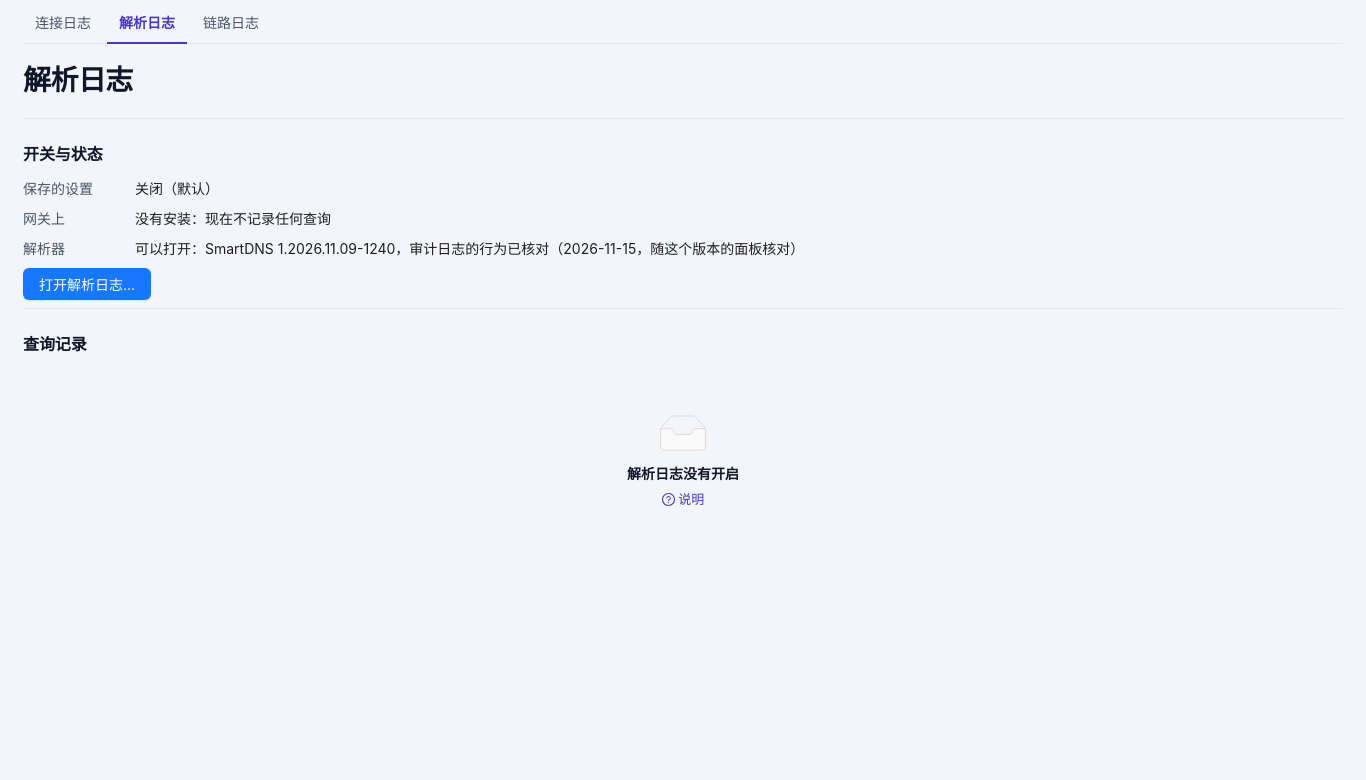
Test: DNS query log page › a save the server refuses (the gate changed in between) shows the reason and enables nothing
What coordinates should you click on to do the following:
click the button "打开解析日志…"
I would click on:
 (87, 284)
Its box is [23, 268, 151, 300].
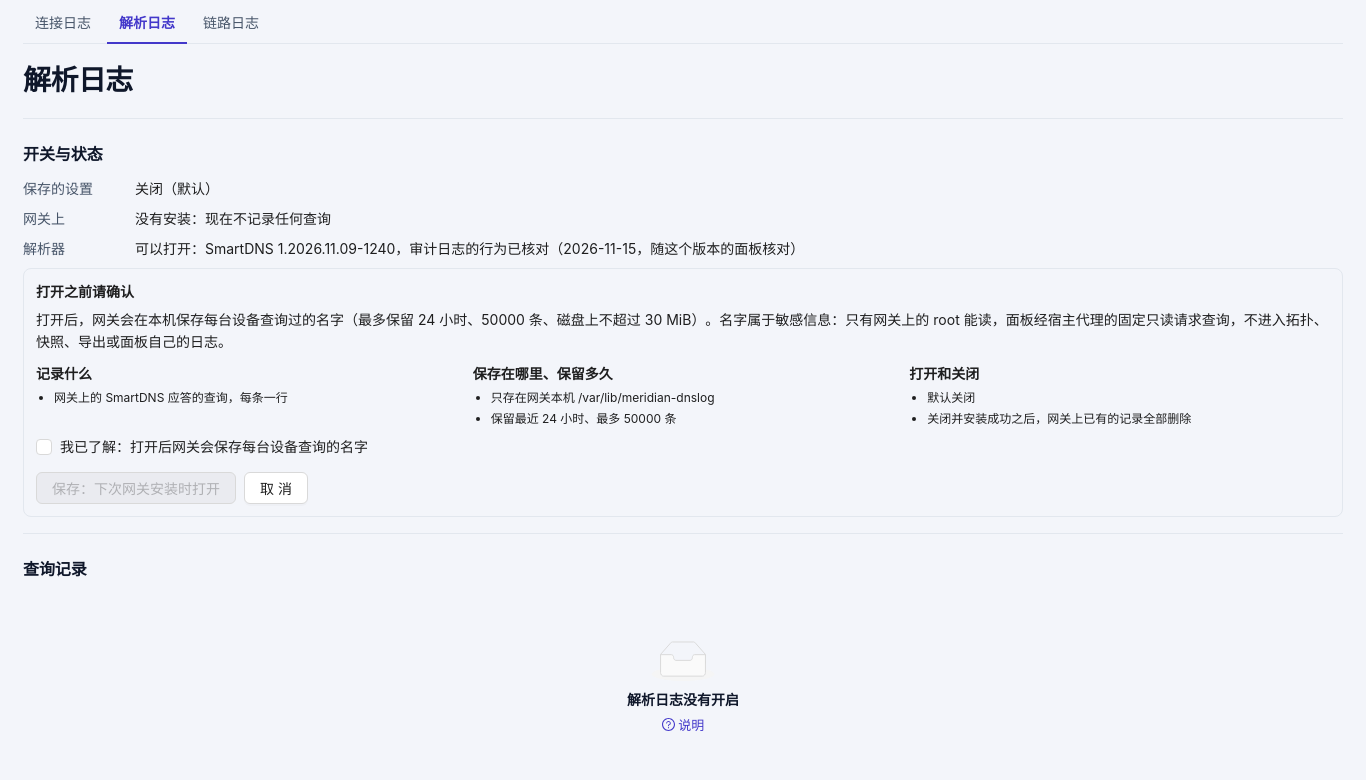
What coordinates should you click on to do the following:
click the checkbox
I would click on:
 (202, 447)
Its box is [36, 438, 368, 456].
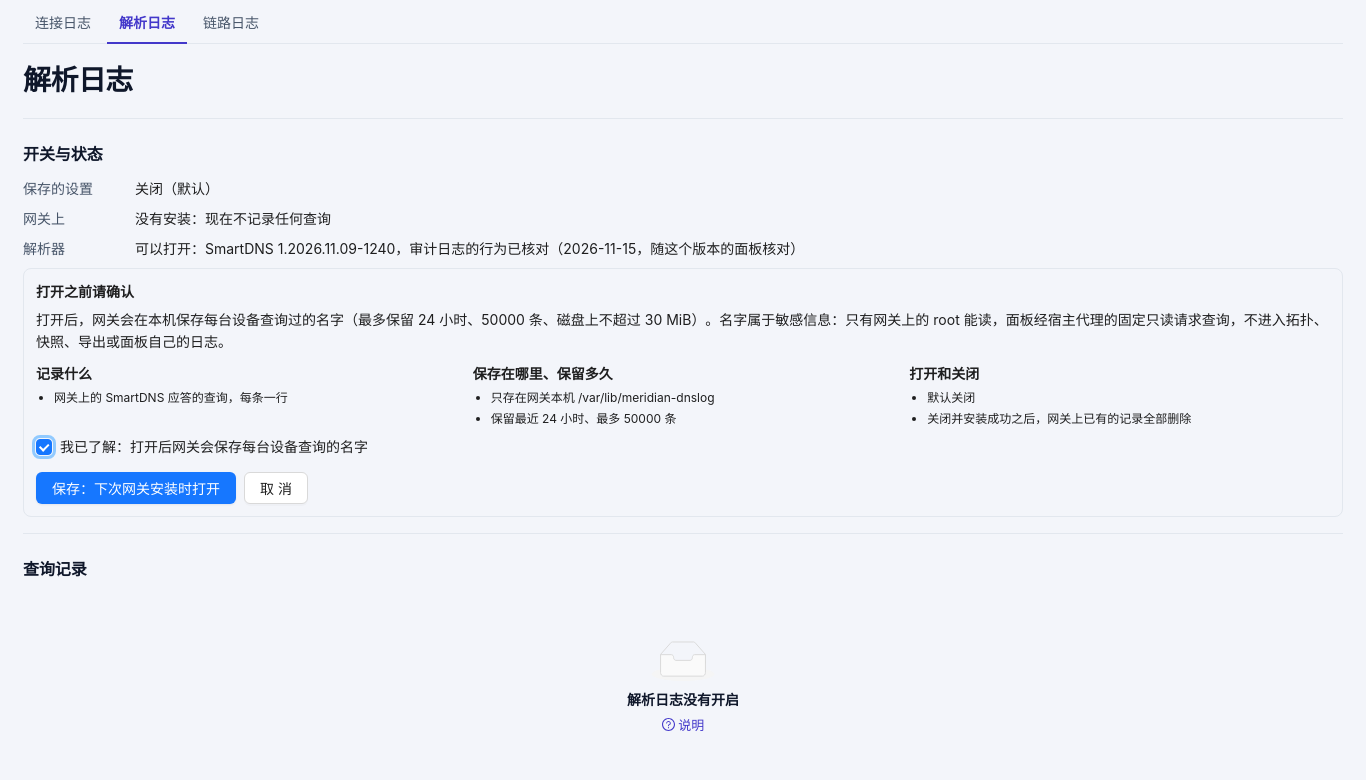
What coordinates should you click on to do the following:
click the button "保存：下次网关安装时打开"
I would click on:
 (136, 488)
Its box is [36, 472, 236, 504].
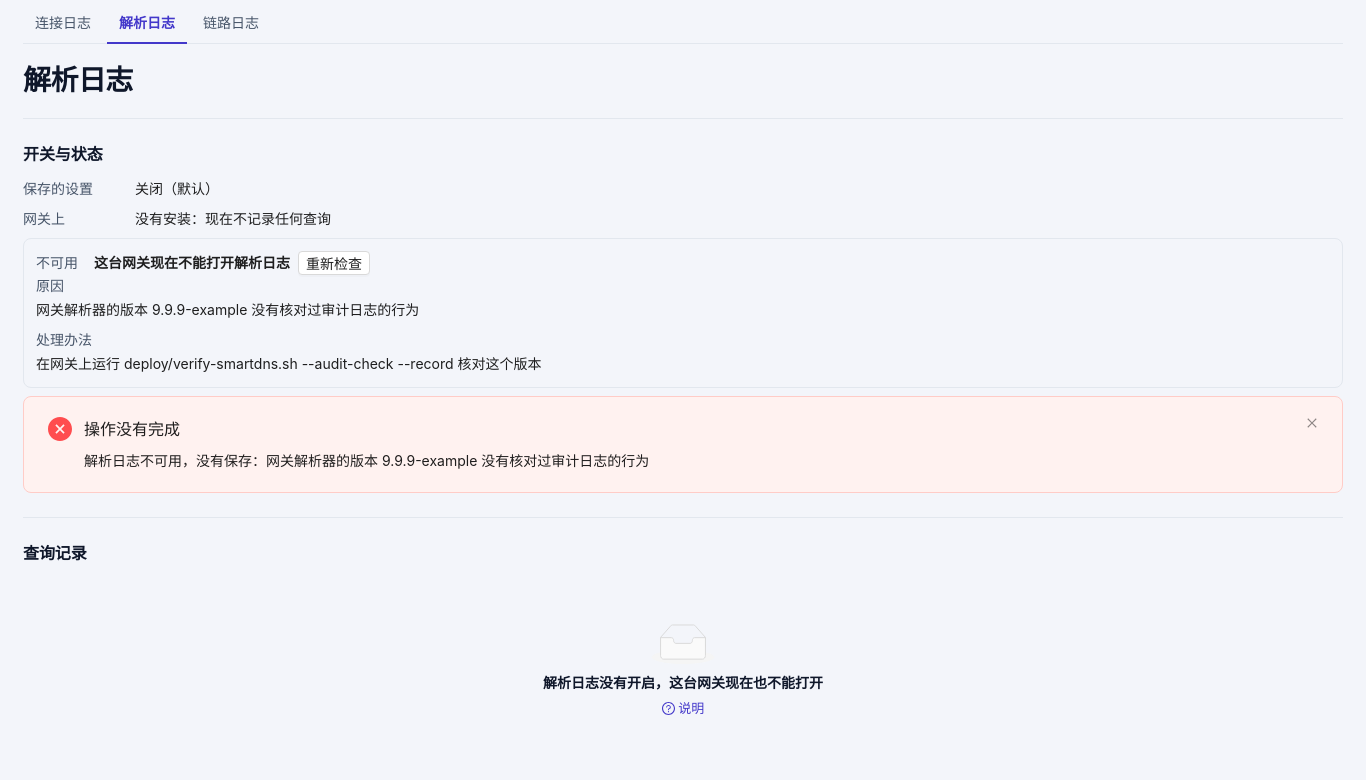
expect the element with test id "dns-log-switch" shows "解析日志不可用，没有保存": met, box [84, 452, 649, 469]
expect the element with test id "dns-log-unavailable" shows "网关解析器的版本 9.9.9-example 没有核对过审计日志的行为": met, box [36, 301, 419, 318]
